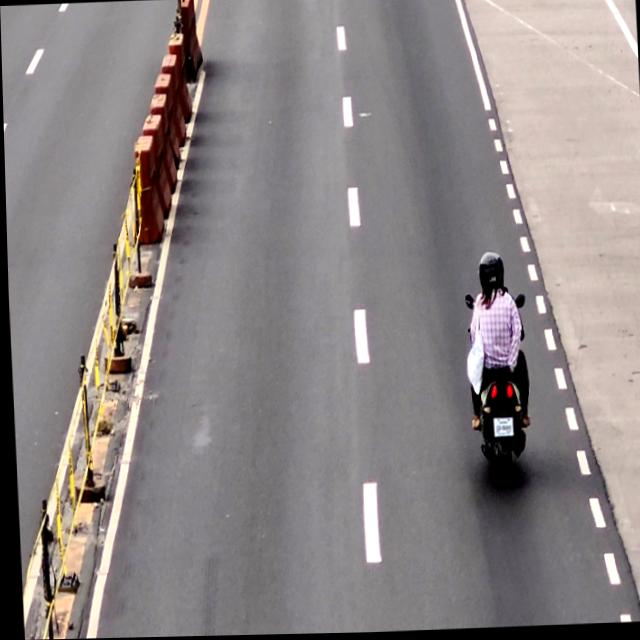License-Plate: (489, 418, 511, 438)
Motorcycle: (463, 293, 531, 484)
